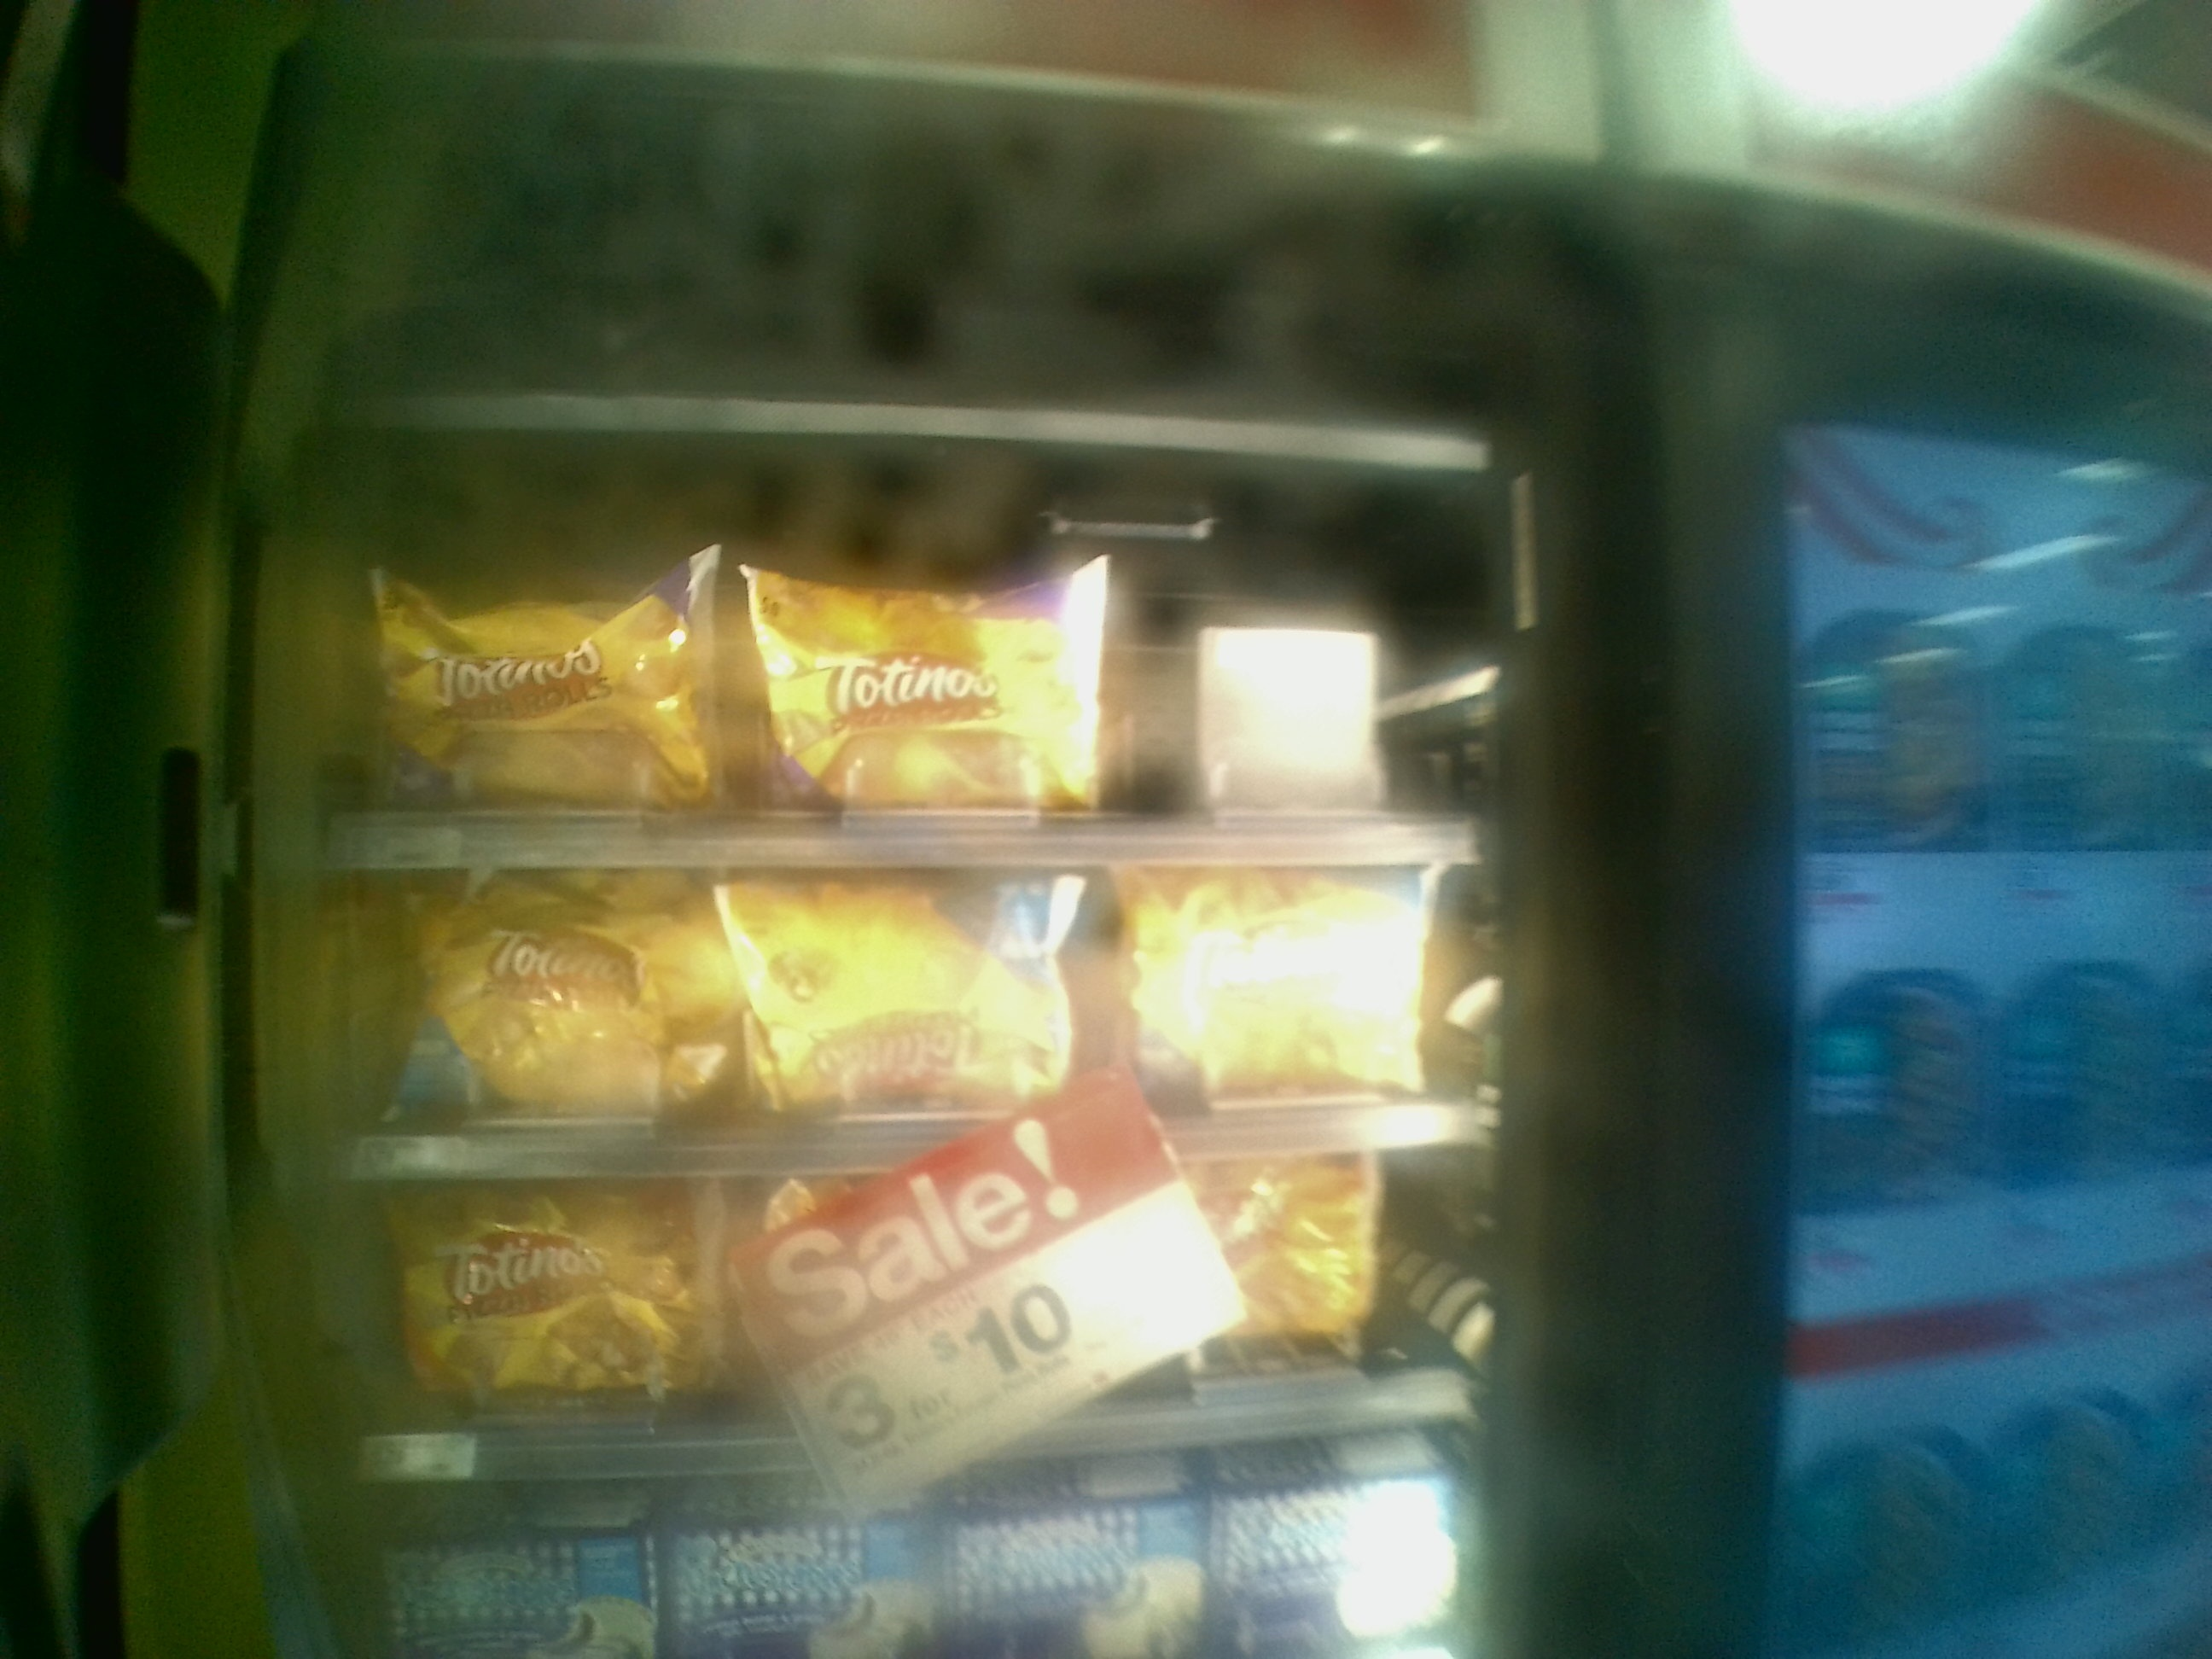shelf: (334, 444, 1498, 870), (308, 866, 1498, 1154), (298, 1185, 1491, 1459)
